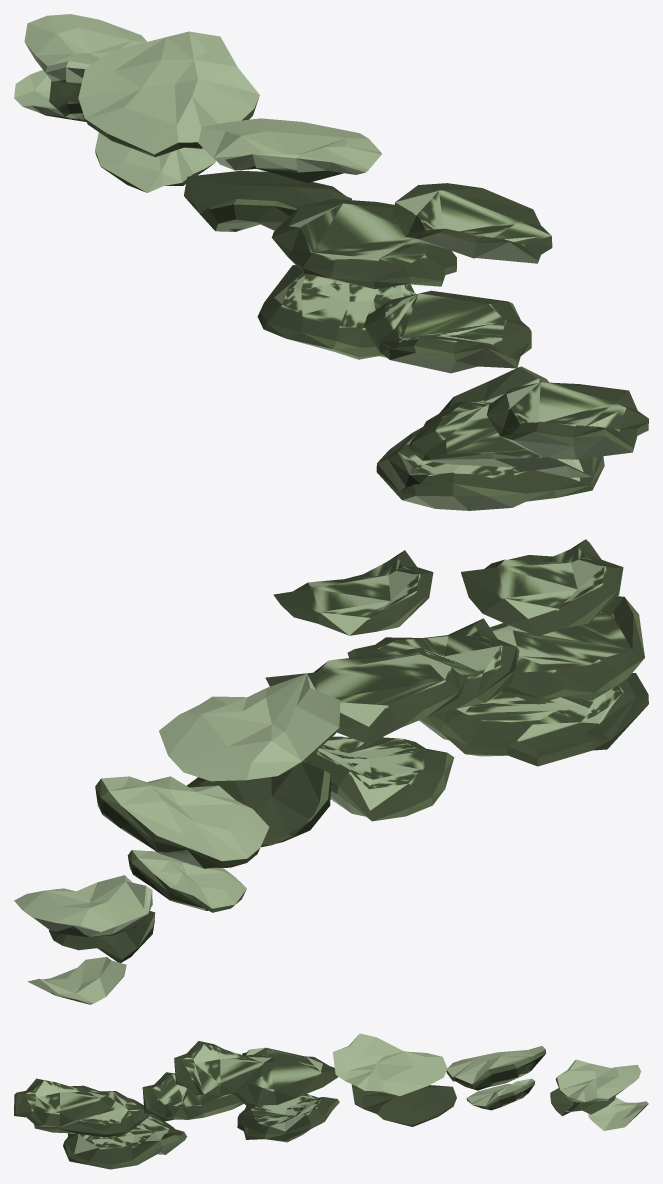
Rendered from EA_Swamp_Fungus_04a.glb.
3 renders of one model, top to bottom at view 1: azimuth 30°, elevation 25°; view 2: azimuth 150°, elevation 25°; view 3: azimuth 270°, elevation 25°, orthographic. The views are drawn at different scales.
Parts seen in each view (by area): view 1: EA_Swamp_Fungus_04a; view 2: EA_Swamp_Fungus_04a; view 3: EA_Swamp_Fungus_04a.
Part boxes in pixels (box(x1,y1,x2,y2)): EA_Swamp_Fungus_04a: box(14, 14, 648, 510); EA_Swamp_Fungus_04a: box(14, 539, 648, 1004); EA_Swamp_Fungus_04a: box(14, 1033, 648, 1169).
Size of the model in its own units: 0.4515 by 0.3609 by 1.77.
1 material, 1 textured.
